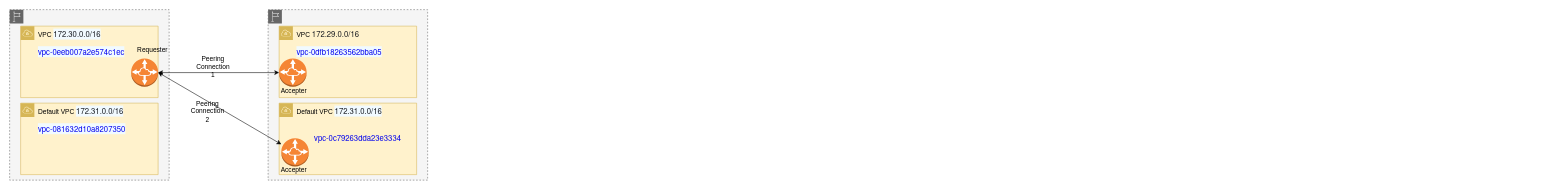
Image size: 1552x190. Some labels were removed from this diagram. The shapes that lost their labels are listed below. From the top down, each one's box as (x1, y1, x2, y2) in pixels, then its label:
(9, 9, 169, 180): Oregon Region(US-WEST-2)
(268, 9, 428, 180): Ohio (US-EAST-2)
